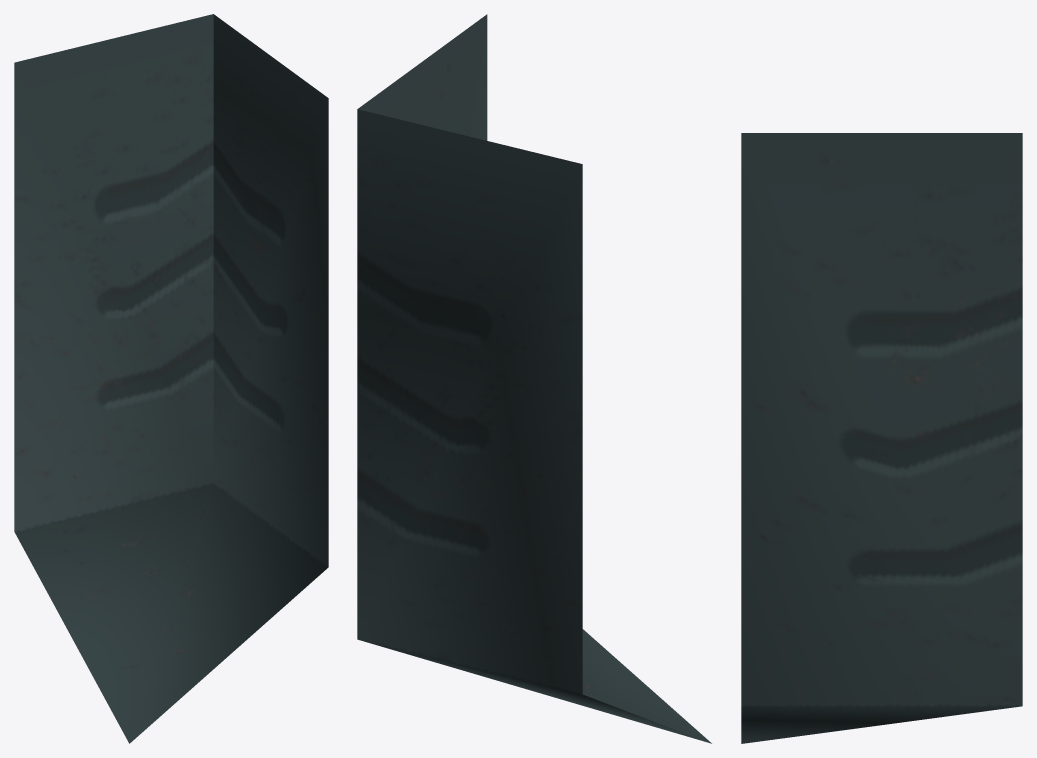
File: MK_Ship_WallCorner.fbx
The picture shows the model from 3 angles, left to right: view 1: azimuth 30°, elevation 25°; view 2: azimuth 150°, elevation 25°; view 3: azimuth 270°, elevation 25°; orthographic projection. The views are drawn at different scales.
Visible parts, largest first — view 1: MK_Ship_WallCorner; view 2: MK_Ship_WallCorner; view 3: MK_Ship_WallCorner.
Boxes of the visible parts, left/top/right/bottom form: MK_Ship_WallCorner: left=14, top=14, right=328, bottom=743; MK_Ship_WallCorner: left=357, top=14, right=711, bottom=743; MK_Ship_WallCorner: left=741, top=133, right=1022, bottom=743.
Bounding box in the file's own units: 0.25 × 0.716 × 0.25.
1 material, 1 textured.
